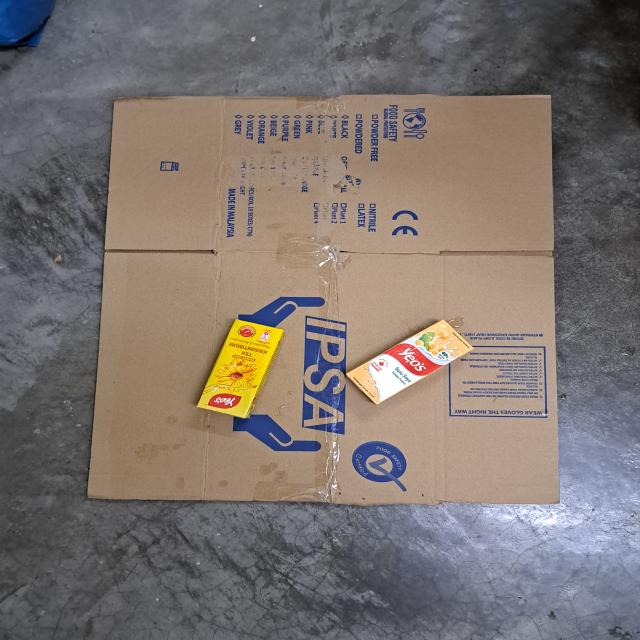cardboard: (90, 81, 568, 516)
